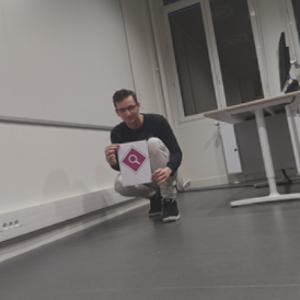search: (120, 146, 148, 173)
